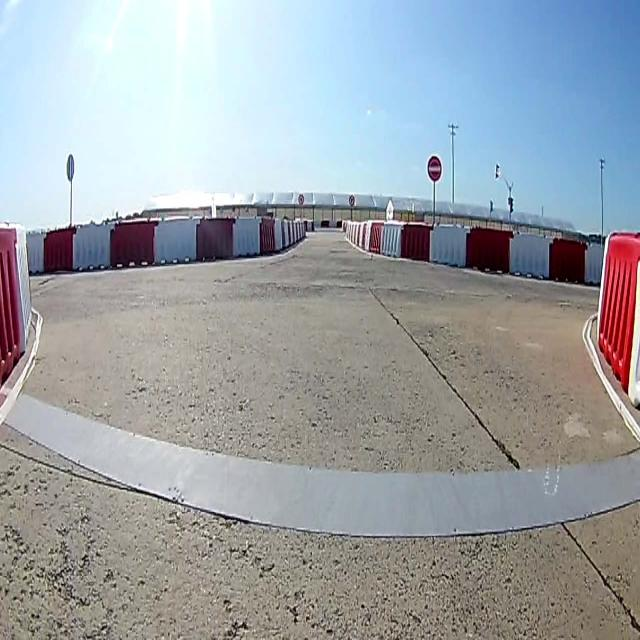girisyok: (424, 153, 442, 181)
